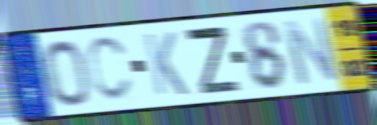8: (241, 19, 290, 92)
C: (86, 34, 134, 105)
K: (141, 30, 191, 97)
N: (279, 16, 342, 88)
O: (39, 38, 93, 108)
Z: (182, 25, 243, 97)
